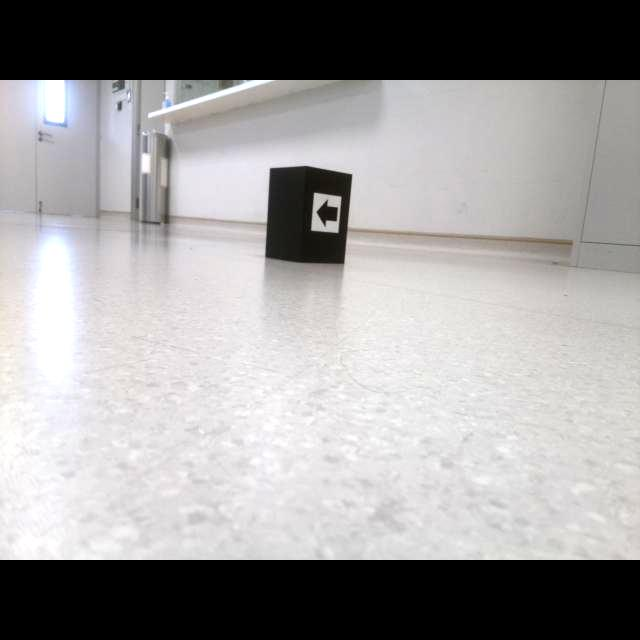LEFT: (316, 198, 339, 228)
